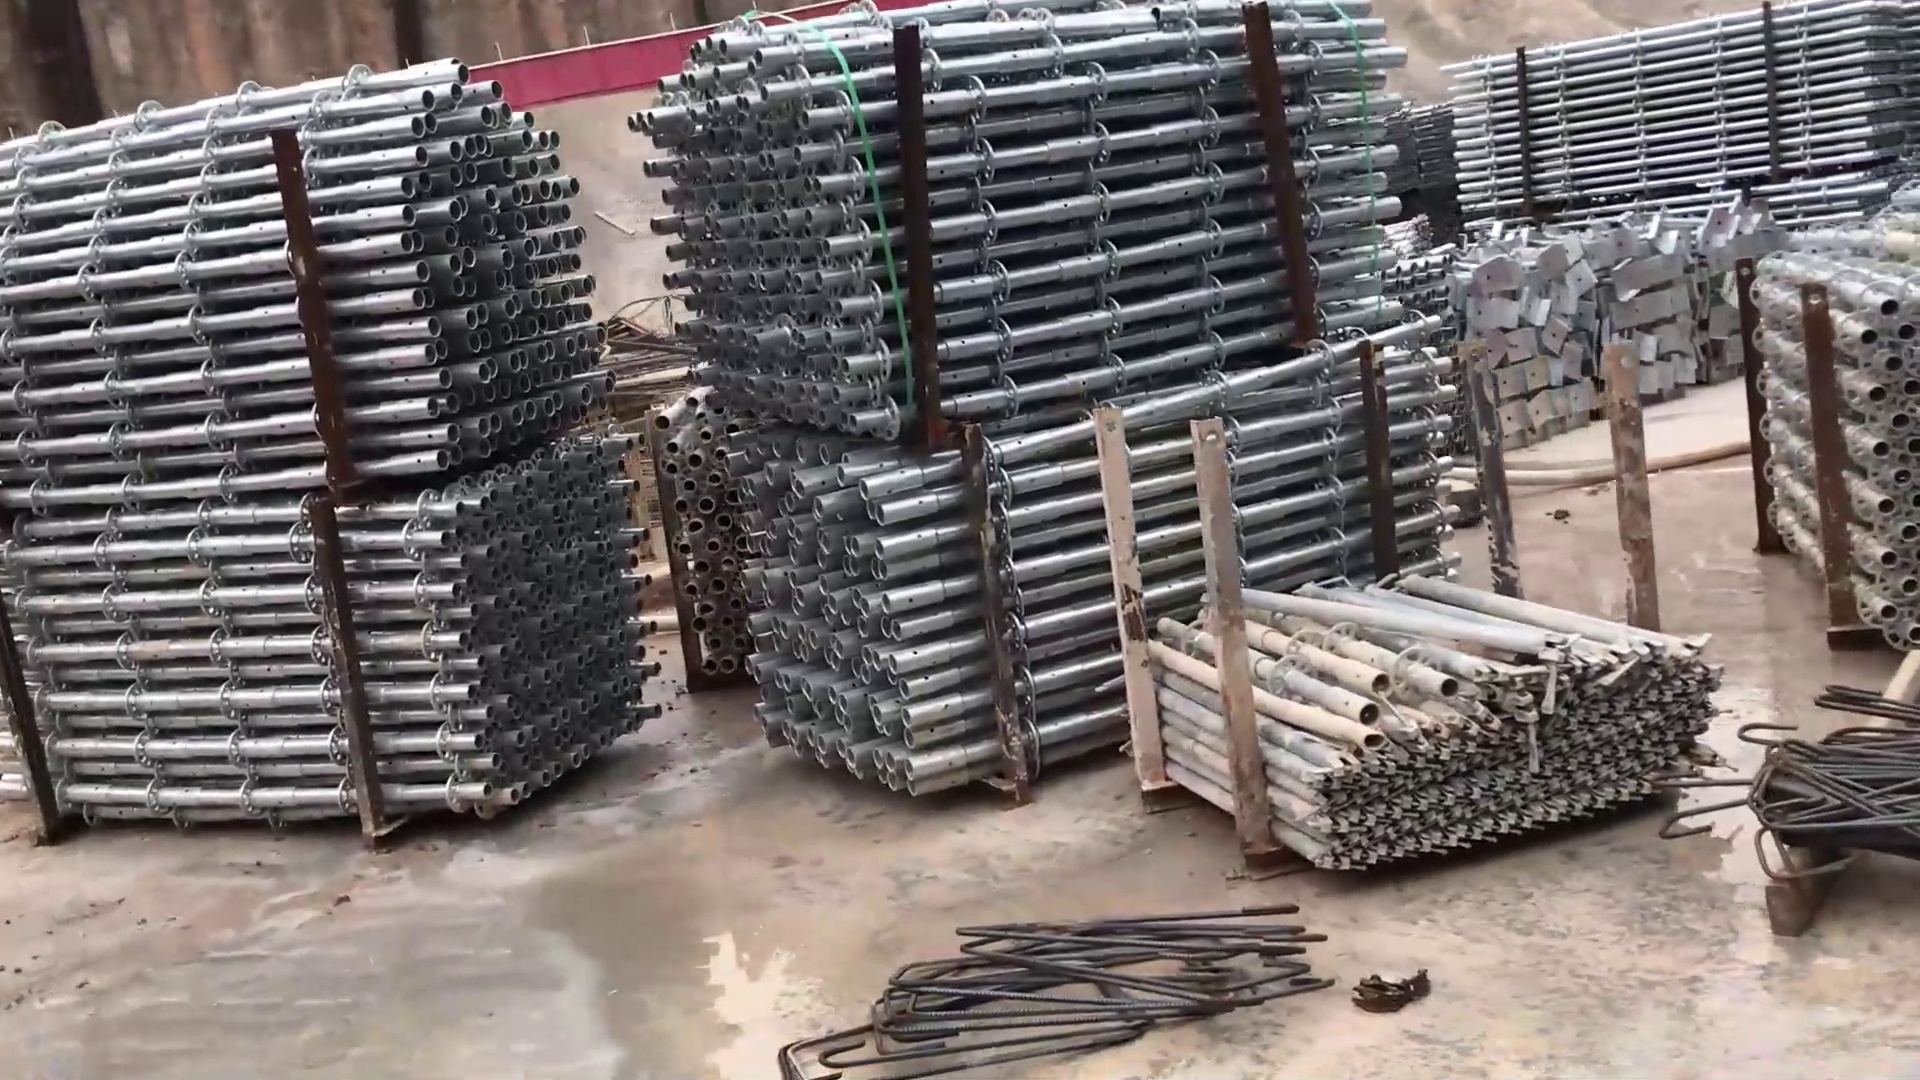rebar: (773, 898, 1364, 1080), (1667, 671, 1920, 869)
scaffold: (1, 54, 670, 847), (611, 3, 1433, 407), (694, 404, 1155, 804), (1135, 568, 1714, 881), (1449, 3, 1912, 202), (1745, 181, 1920, 645), (1423, 231, 1745, 462)
